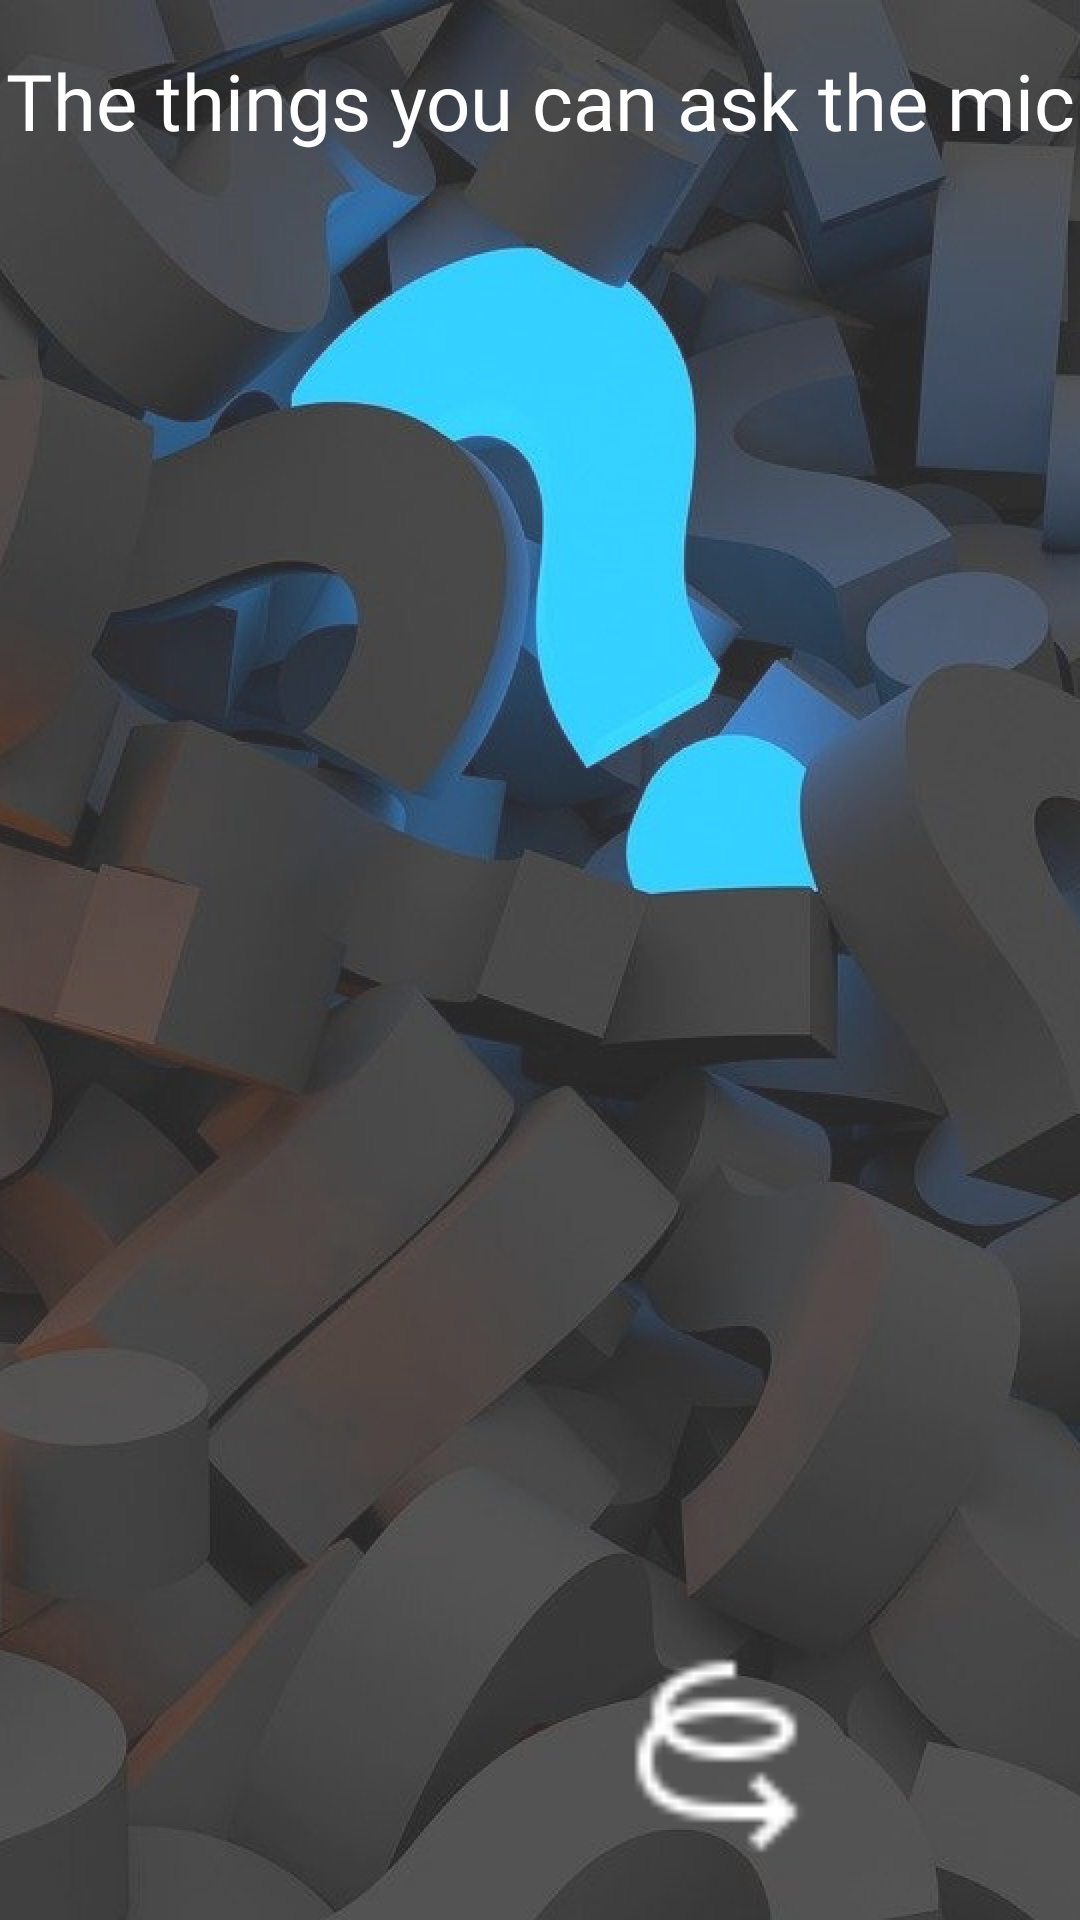

Where to tap for icons on this 1080*1920 app screen, as point (x, y):
arrow: point (720, 1752)
